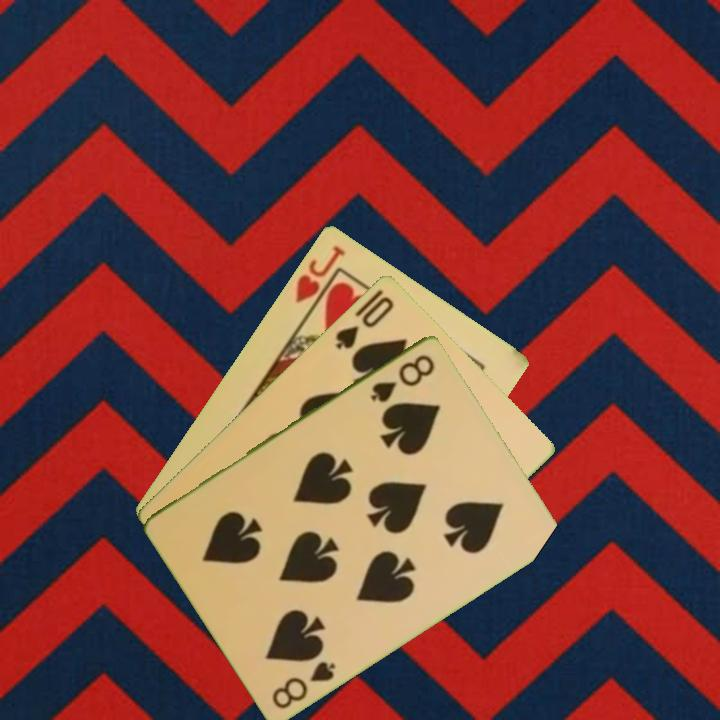10s: (331, 292, 397, 352)
8s: (366, 350, 438, 405), (268, 657, 339, 712)
Jh: (291, 241, 348, 318)
